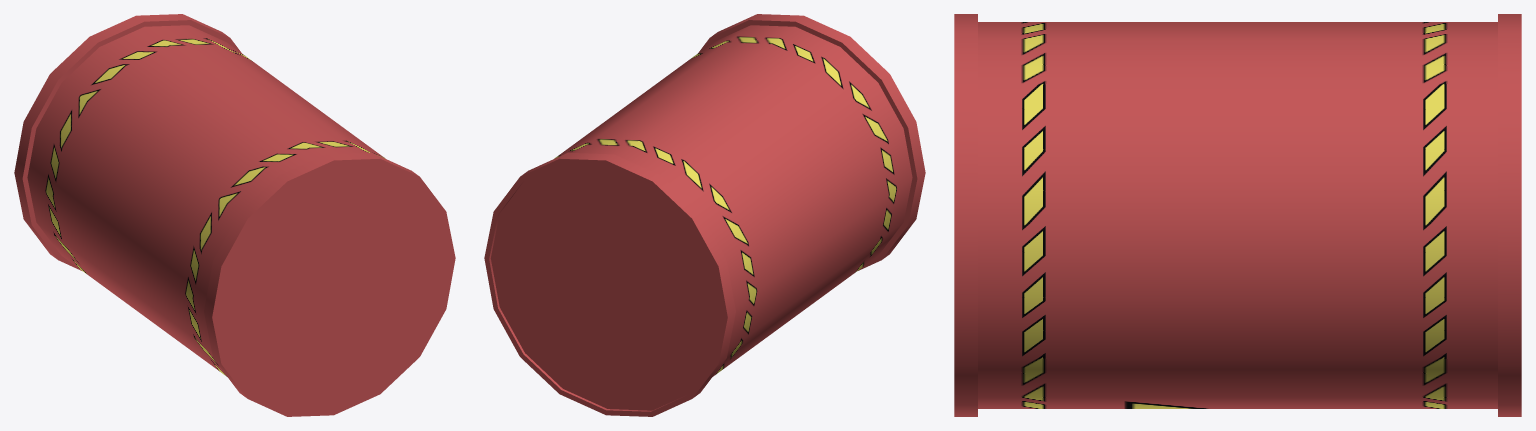
The model's file is Barrel.dae.
The picture shows the model from 3 angles, left to right: view 1: azimuth 30°, elevation 25°; view 2: azimuth 150°, elevation 25°; view 3: azimuth 270°, elevation 25°; orthographic projection. The views are drawn at different scales.
Parts seen in each view (by area): view 1: Barrel; view 2: Barrel; view 3: Barrel.
Part boxes in pixels (x1=…): Barrel: x1=14, y1=14, x2=455, y2=416; Barrel: x1=484, y1=14, x2=925, y2=416; Barrel: x1=954, y1=14, x2=1521, y2=416.
Size of the model in its own units: 0.3541 by 0.4982 by 0.3541.
1 material, 1 textured.
